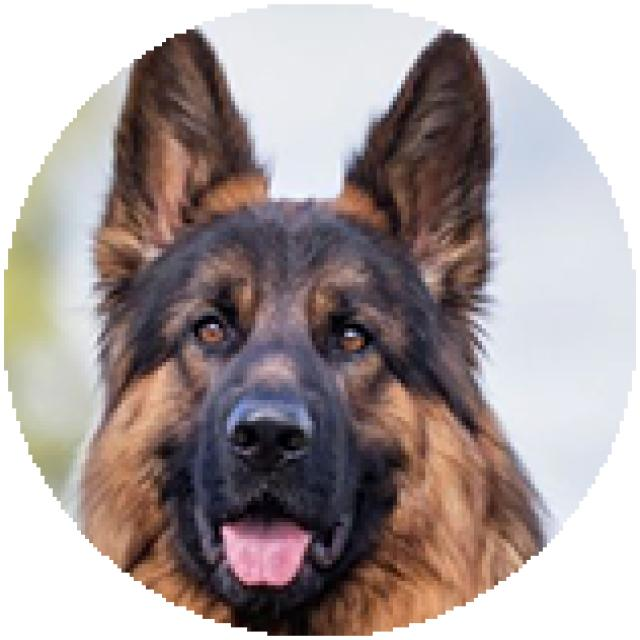GERMAN_SHEPHERD: (73, 0, 548, 640)
